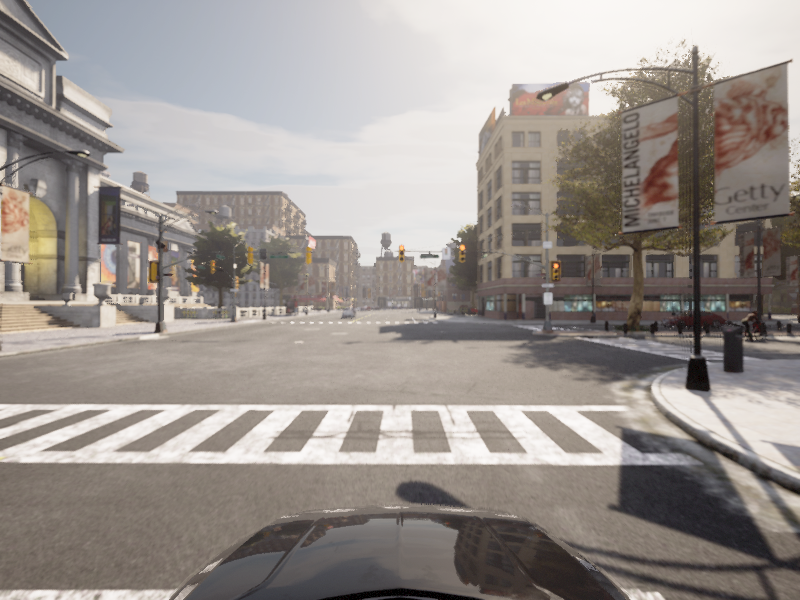vehicle: (656, 310, 729, 328), (732, 310, 772, 341)
